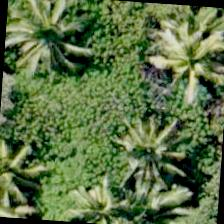Kelapa_Sawit: (100, 105, 196, 202), (2, 0, 97, 82), (143, 12, 223, 109), (102, 166, 197, 223), (58, 168, 152, 223), (0, 123, 53, 218)
